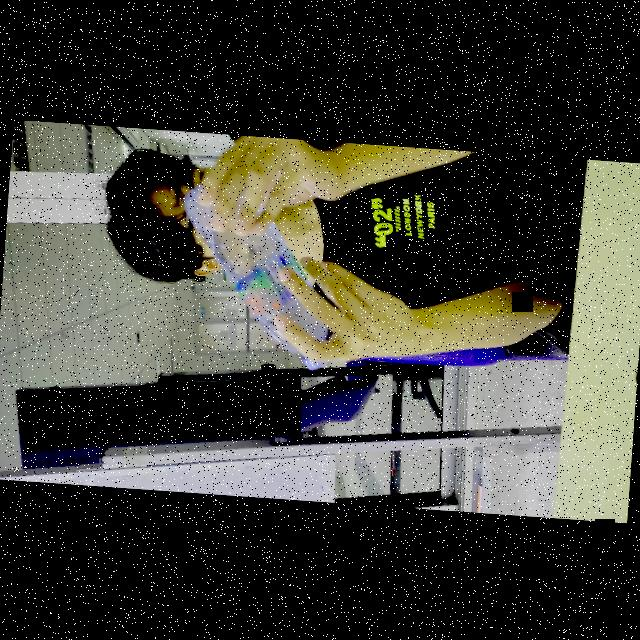plastic_bottle: (170, 172, 356, 372)
plastic_bottle_cap: (302, 342, 332, 372)
